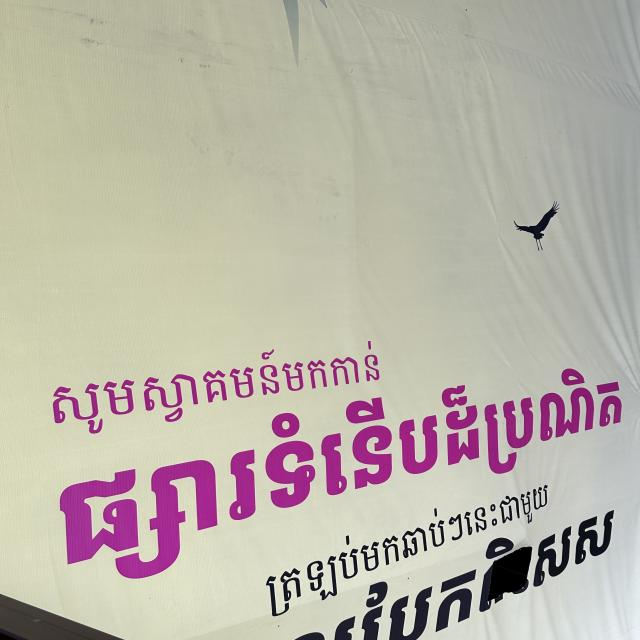Yolov11_80vkh: (27, 356, 633, 595), (233, 463, 565, 630), (34, 329, 395, 442)
